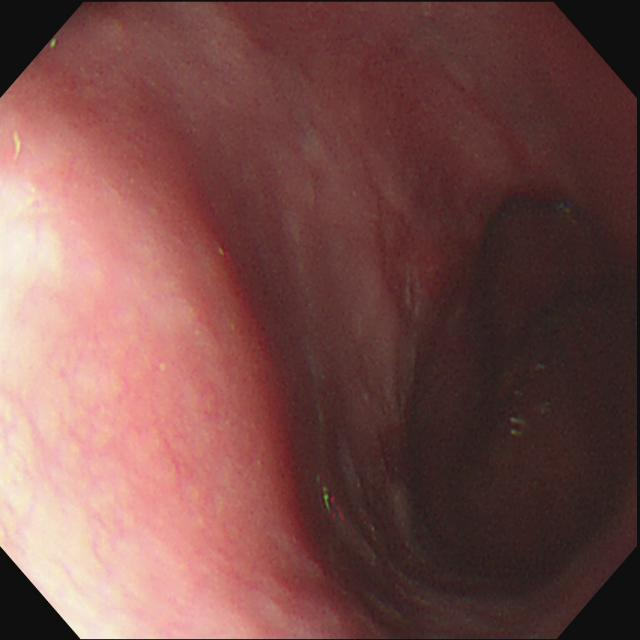E: (439, 219, 592, 476)
U: (322, 479, 347, 529)
